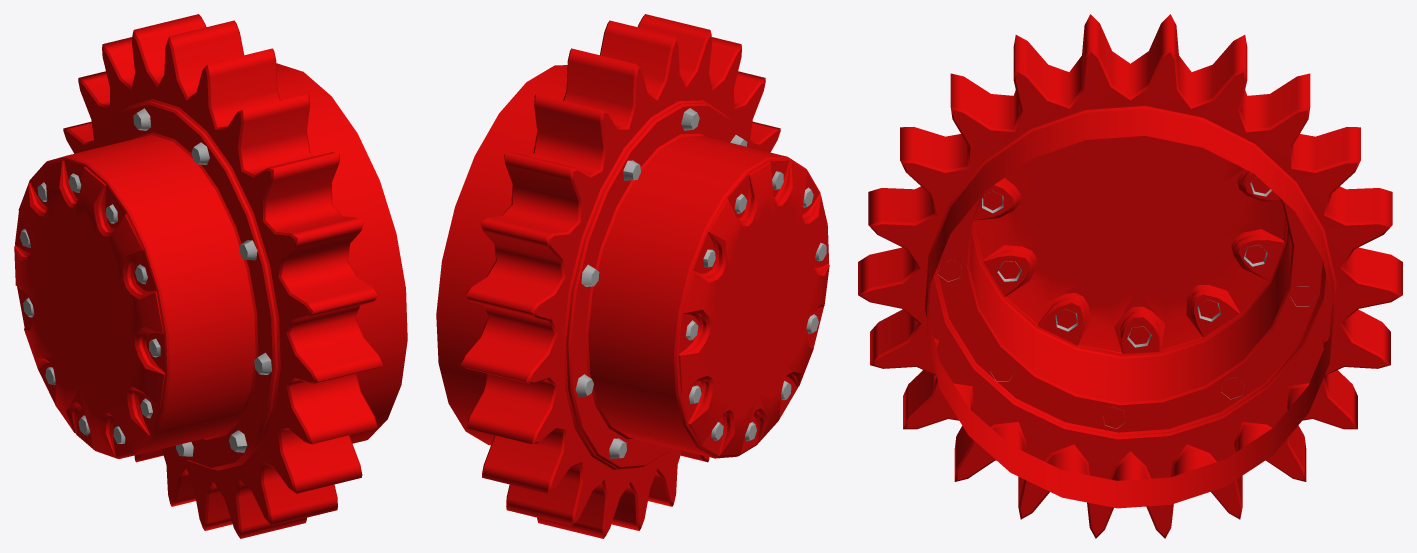
File: ExcavatorMachine_Wheel_01a_snaps005.fbx
3 renders of one model, left to right at view 1: azimuth 30°, elevation 25°; view 2: azimuth 150°, elevation 25°; view 3: azimuth 270°, elevation 25°, orthographic. The views are drawn at different scales.
Parts seen in each view (by area): view 1: ExcavatorMachine_Wheel_01a_snaps005; view 2: ExcavatorMachine_Wheel_01a_snaps005; view 3: ExcavatorMachine_Wheel_01a_snaps005.
Part boxes in pixels (<box>): ExcavatorMachine_Wheel_01a_snaps005: <box>14,14,407,538</box>; ExcavatorMachine_Wheel_01a_snaps005: <box>436,14,829,538</box>; ExcavatorMachine_Wheel_01a_snaps005: <box>858,14,1402,538</box>.
Size of the model in its own units: 40.88 by 80.26 by 80.61.
